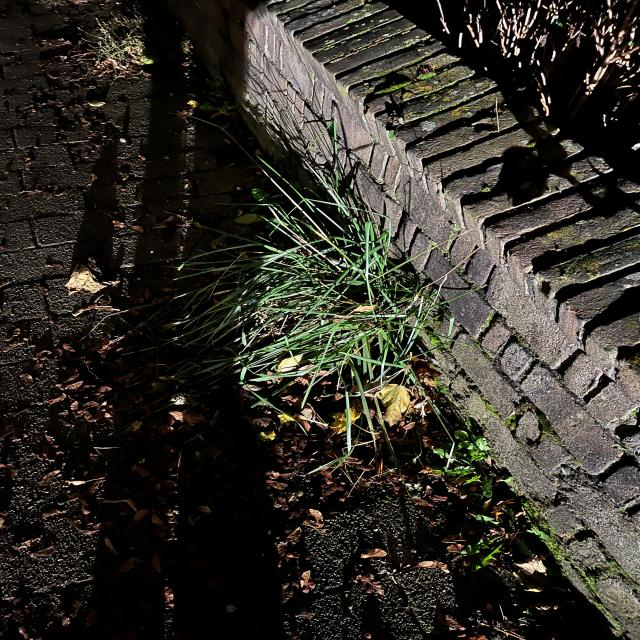weed: (195, 208, 436, 406), (438, 428, 561, 570), (57, 14, 213, 80)
